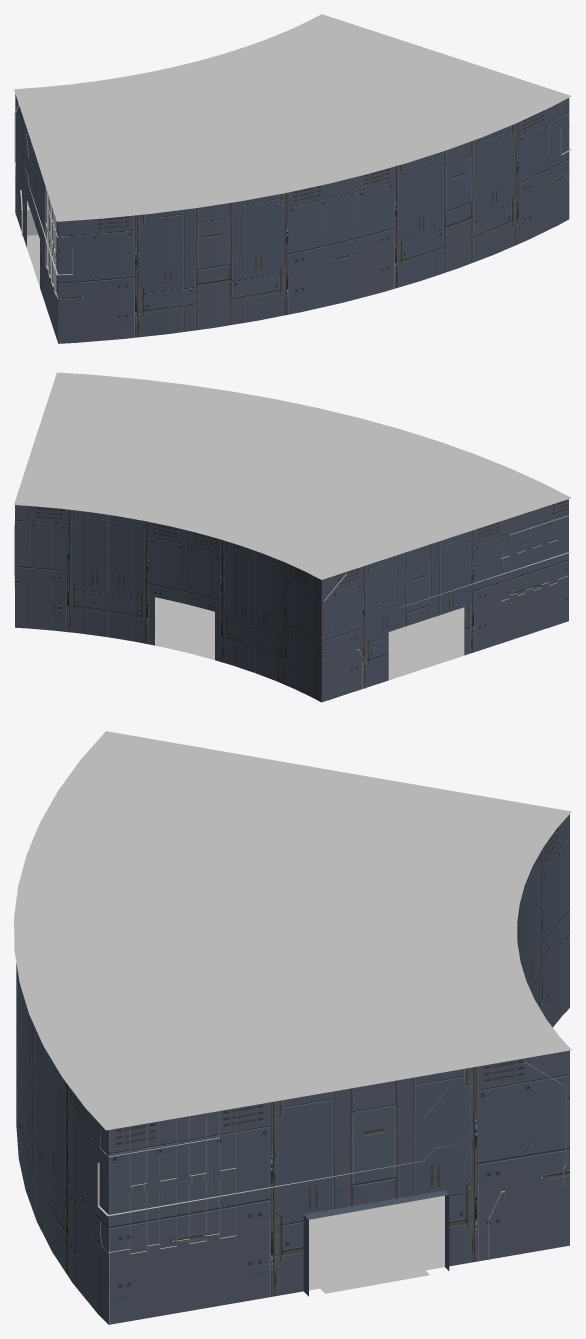
File: pve_research_p8.FBX
The picture shows the model from 3 angles, top to bottom: view 1: azimuth 30°, elevation 25°; view 2: azimuth 150°, elevation 25°; view 3: azimuth 270°, elevation 25°; orthographic projection. The views are drawn at different scales.
Visible parts, largest first — view 1: pve_research_wall, pve_research_tubo (×2), pve_research_machines_01, pve_research_ground_01; view 2: pve_research_tubo (×2), pve_research_wall, pve_research_ground_01, pve_research_machines_01; view 3: pve_research_tubo (×2), pve_research_wall, pve_research_ground_01, pve_research_machines_01.
Boxes of the visible parts, x1,y1,x2,y2 form: pve_research_wall: (15, 94, 569, 343); pve_research_tubo (×2): (14, 14, 571, 275); pve_research_machines_01: (45, 105, 569, 298); pve_research_ground_01: (27, 235, 39, 286); pve_research_tubo (×2): (14, 372, 571, 688); pve_research_wall: (15, 499, 568, 702); pve_research_ground_01: (155, 597, 464, 680); pve_research_machines_01: (500, 503, 569, 601); pve_research_tubo (×2): (14, 731, 571, 1260); pve_research_wall: (16, 814, 569, 1324); pve_research_ground_01: (309, 1195, 444, 1293); pve_research_machines_01: (100, 1108, 236, 1254).
Bounding box in the file's own units: 4736 × 1082 × 2795.
